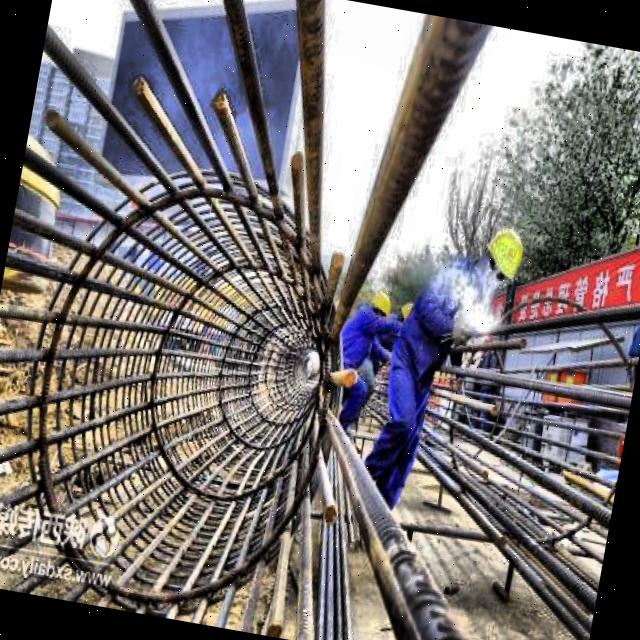helmet: (476, 220, 529, 292), (364, 288, 395, 332)
